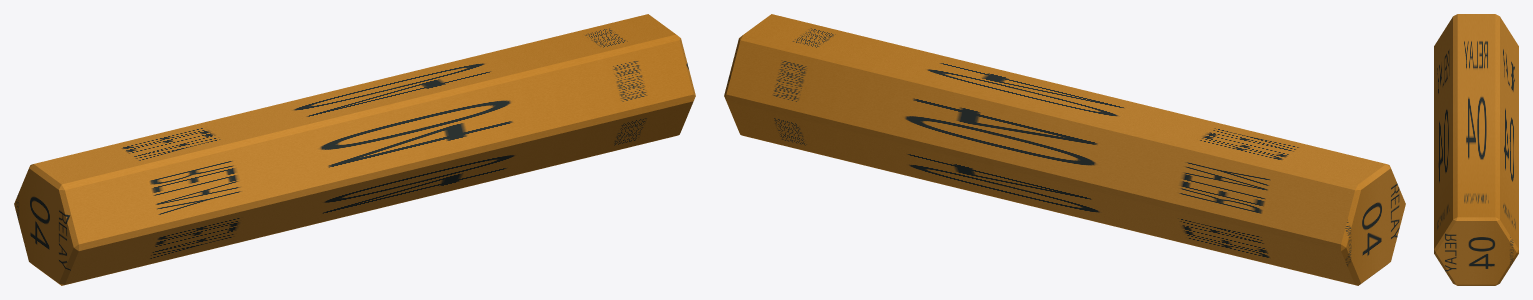
The model's file is pipe_straight_LOD3.obj.
The picture shows the model from 3 angles, left to right: view 1: azimuth 30°, elevation 25°; view 2: azimuth 150°, elevation 25°; view 3: azimuth 270°, elevation 25°; orthographic projection. The views are drawn at different scales.
Visible parts, largest first — view 1: L02_pipe_straight_LOD3; view 2: L02_pipe_straight_LOD3; view 3: L02_pipe_straight_LOD3.
Part boxes in pixels (bbox=[...]): L02_pipe_straight_LOD3: bbox=[14, 14, 695, 285]; L02_pipe_straight_LOD3: bbox=[724, 14, 1405, 285]; L02_pipe_straight_LOD3: bbox=[1434, 14, 1518, 285].
Bounding box in the file's own units: 2 × 0.3118 × 0.348.
1 material, 1 textured.
